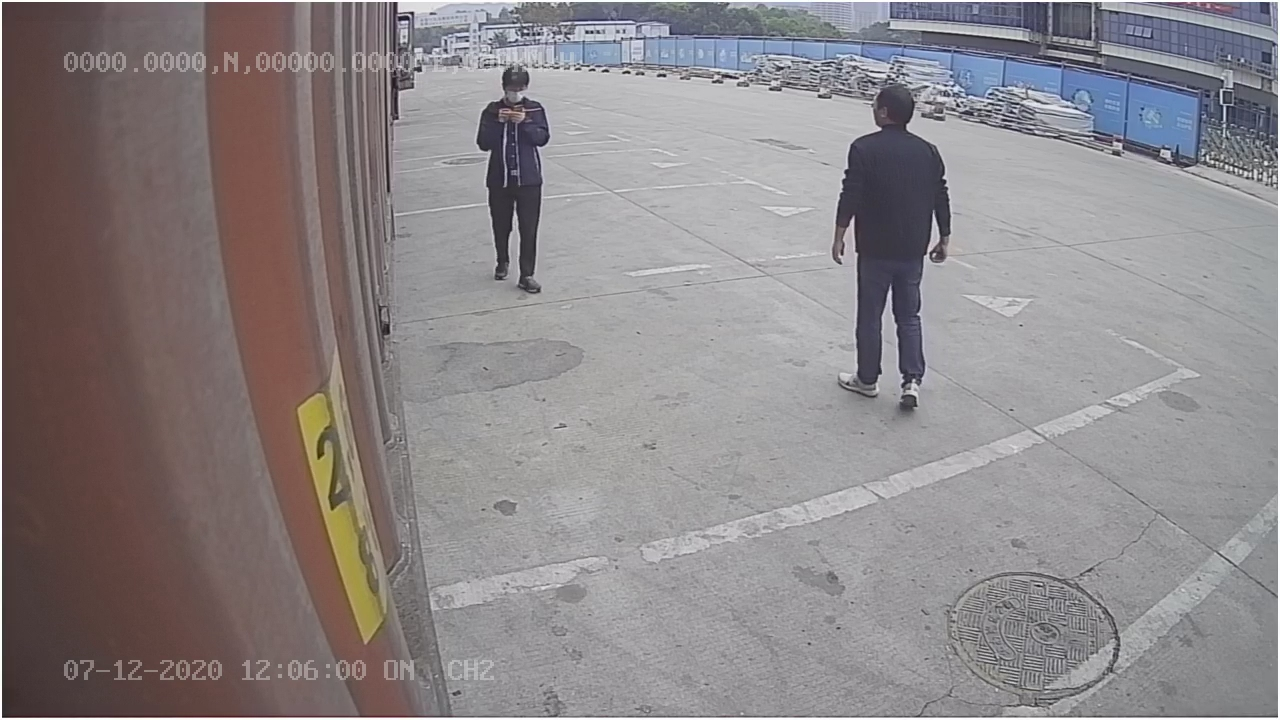person: (826, 80, 950, 414)
